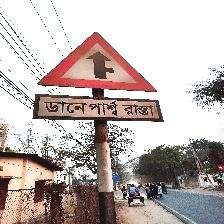Side-road-right: (34, 32, 163, 122)
